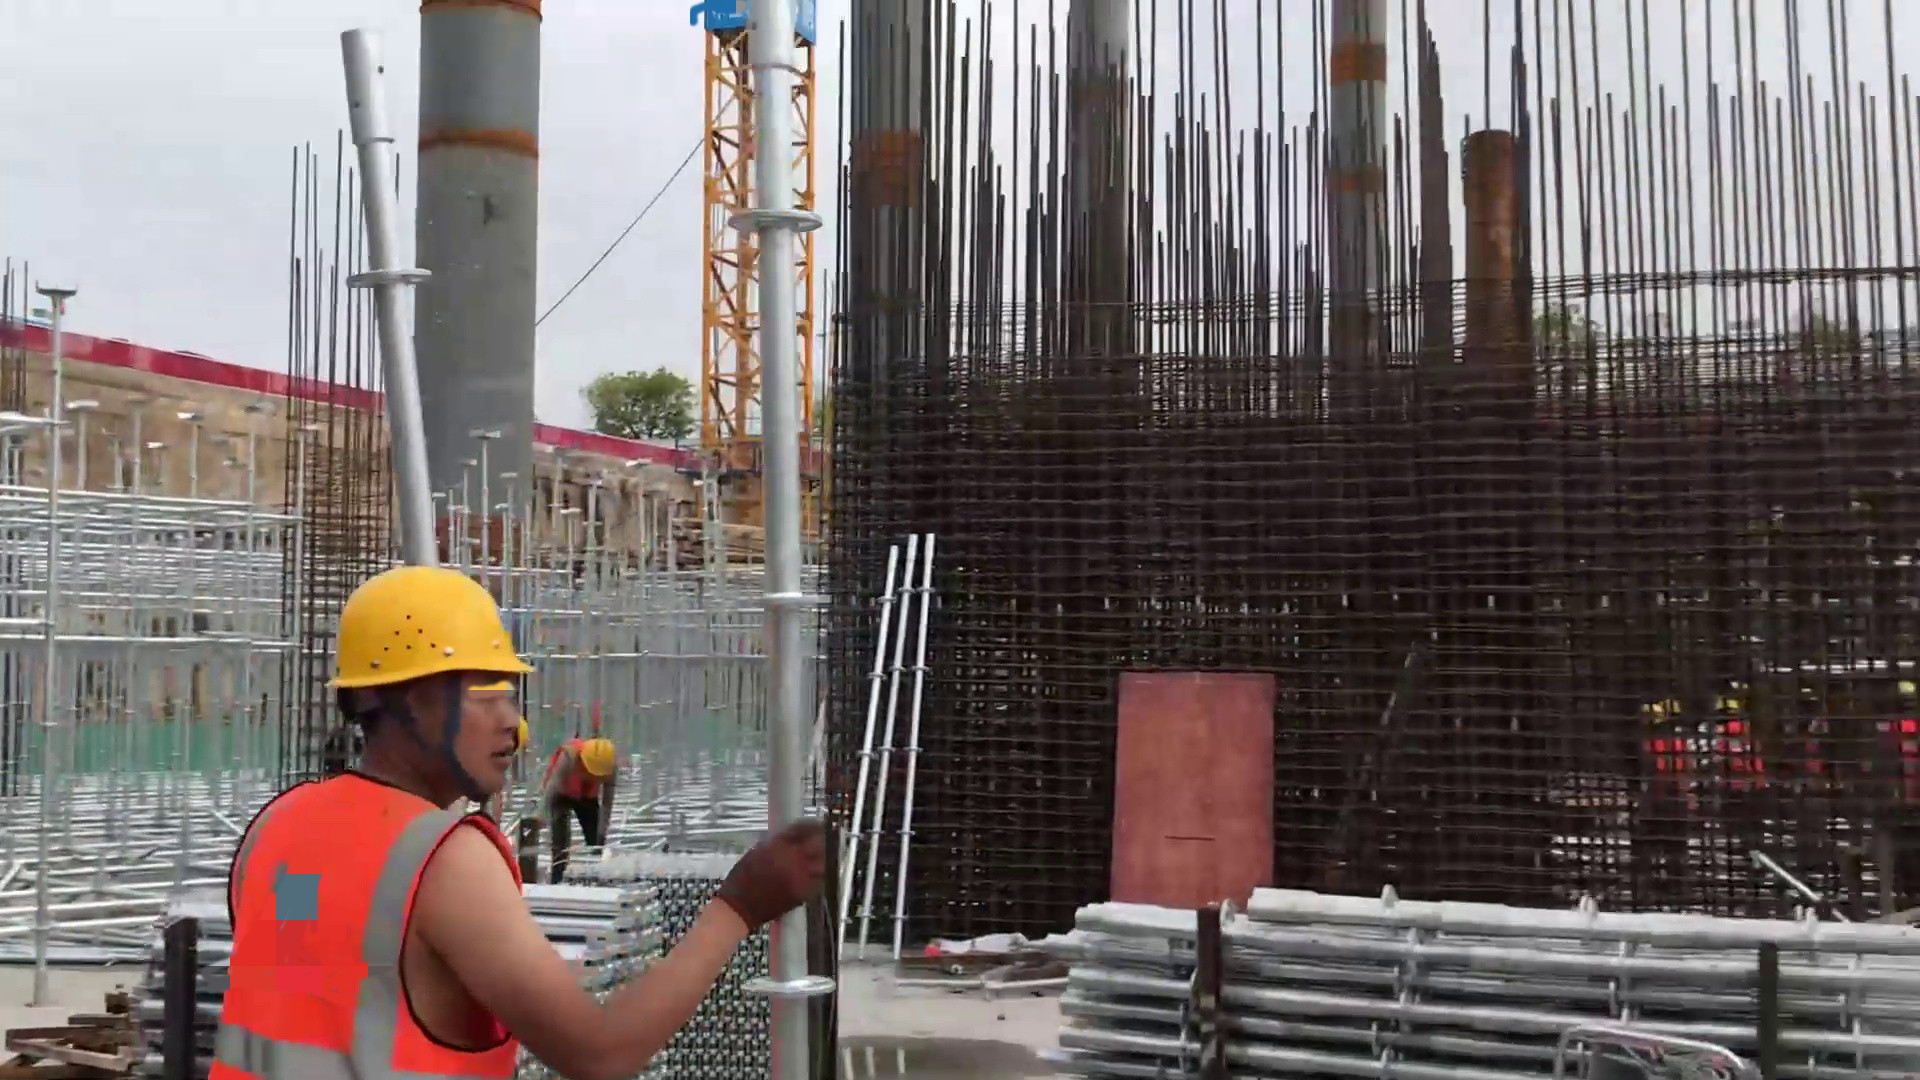fence: (24, 314, 381, 424), (534, 419, 688, 471)
helmet: (317, 557, 541, 712), (572, 736, 624, 784)
person: (205, 557, 828, 1080), (541, 727, 629, 879)
scaffold: (1017, 857, 1920, 1079)
vest: (207, 769, 517, 1080), (553, 741, 605, 822)
